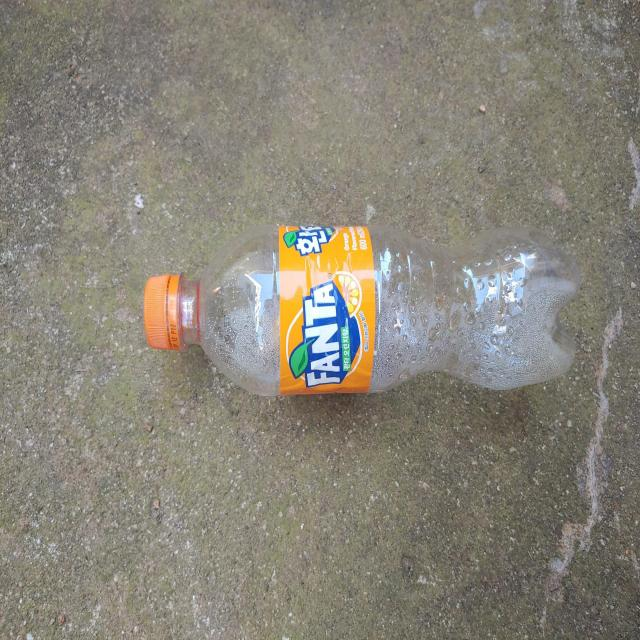plastic: (144, 225, 582, 396)
